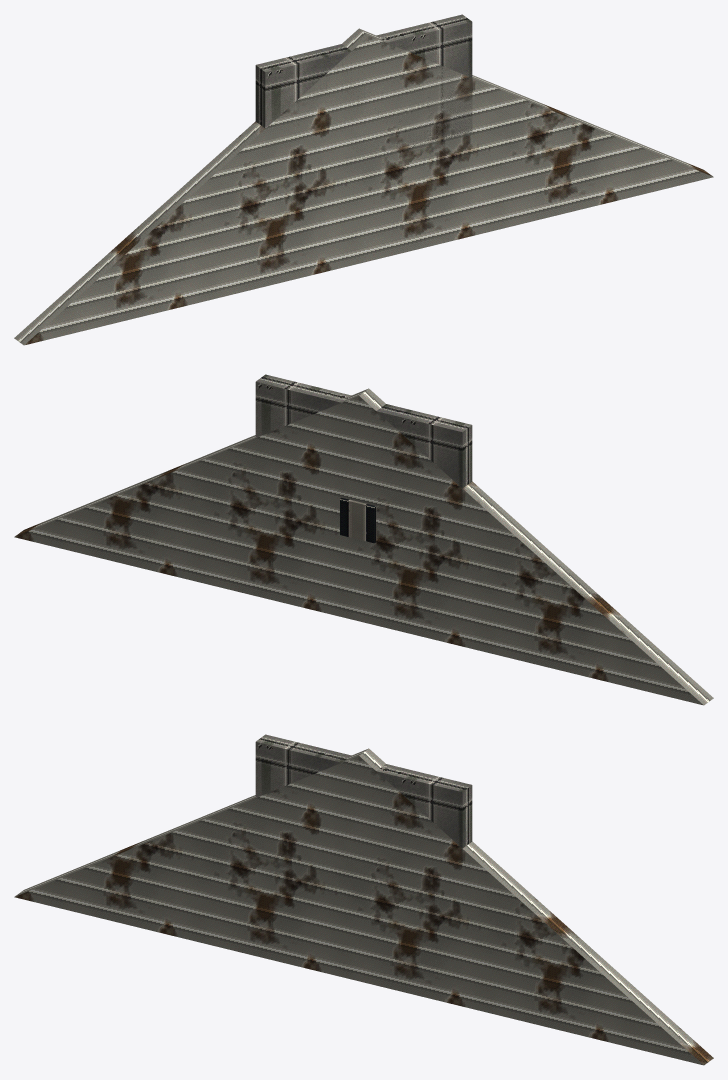
File: gable_siding_white_12.glb
3 renders of one model, top to bottom at view 1: azimuth 30°, elevation 25°; view 2: azimuth 150°, elevation 25°; view 3: azimuth 330°, elevation 25°, orthographic.
Visible parts, largest first — view 1: gable_siding_white_12_mesh, gable_siding_white_12_col-colonly.001; view 2: gable_siding_white_12_mesh, gable_siding_white_12_col-colonly.001; view 3: gable_siding_white_12_mesh, gable_siding_white_12_col-colonly.001.
Boxes of the visible parts, bbox=[...] form: gable_siding_white_12_mesh: bbox=[14, 28, 713, 345]; gable_siding_white_12_col-colonly.001: bbox=[255, 14, 472, 165]; gable_siding_white_12_mesh: bbox=[14, 388, 713, 705]; gable_siding_white_12_col-colonly.001: bbox=[255, 374, 472, 492]; gable_siding_white_12_mesh: bbox=[14, 748, 713, 1065]; gable_siding_white_12_col-colonly.001: bbox=[255, 734, 472, 848].
Size of what is drawn, in the model's own units: 12 by 3.75 by 0.355.
3 materials, 3 textured.
